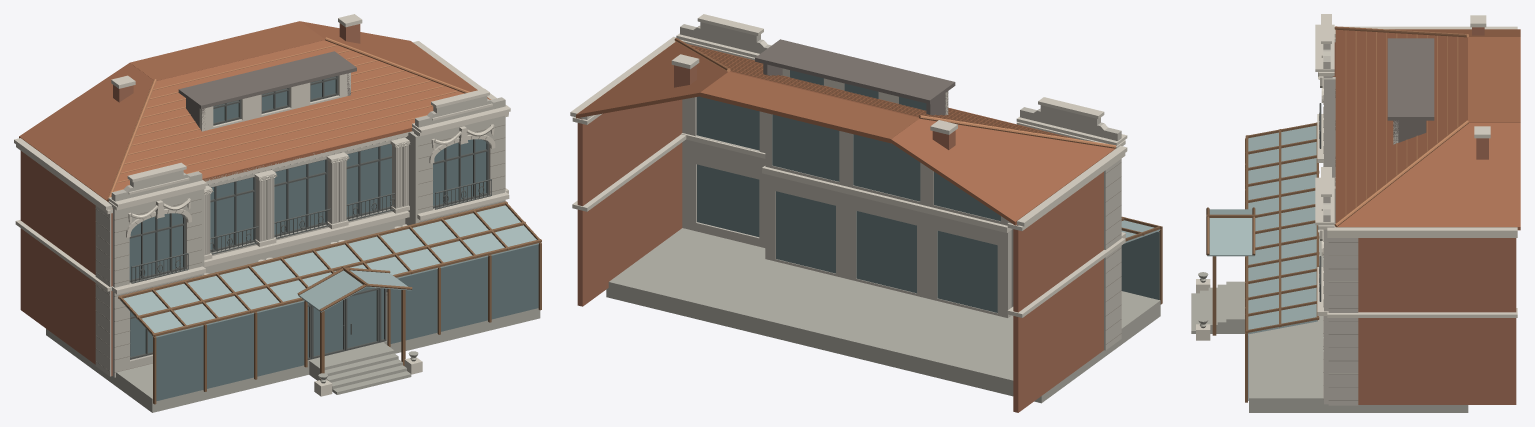
Rendered from xuhui-donghu-hotel-house-seven-lod.glb.
The picture shows the model from 3 angles, left to right: view 1: azimuth 30°, elevation 25°; view 2: azimuth 150°, elevation 25°; view 3: azimuth 270°, elevation 25°; orthographic projection. The views are drawn at different scales.
Parts seen in each view (by area): view 1: 东湖宾馆七号楼花园立面; view 2: 东湖宾馆七号楼花园立面; view 3: 东湖宾馆七号楼花园立面.
Boxes of the visible parts, bbox=[...] form: 东湖宾馆七号楼花园立面: bbox=[14, 14, 541, 412]; 东湖宾馆七号楼花园立面: bbox=[570, 14, 1162, 412]; 东湖宾馆七号楼花园立面: bbox=[1191, 14, 1520, 412].
Size of the model in its own units: 19.82 by 11.02 by 13.52.
